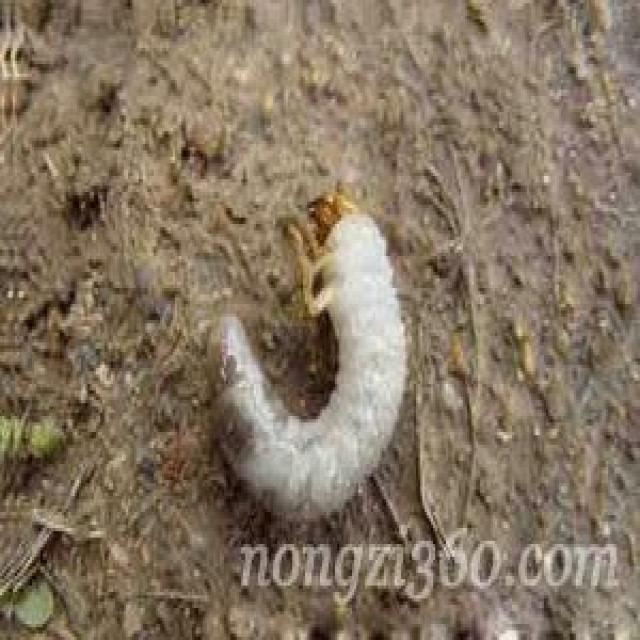Grub-Adult-: (184, 179, 431, 551)
